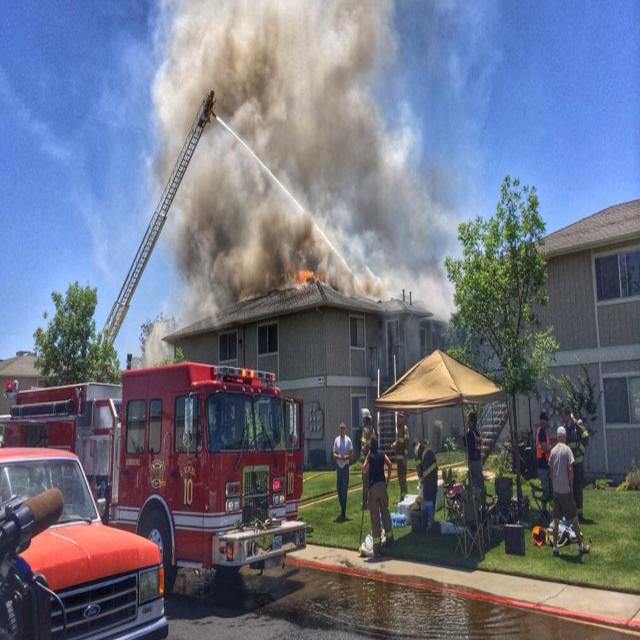smoke: (173, 8, 385, 257)
